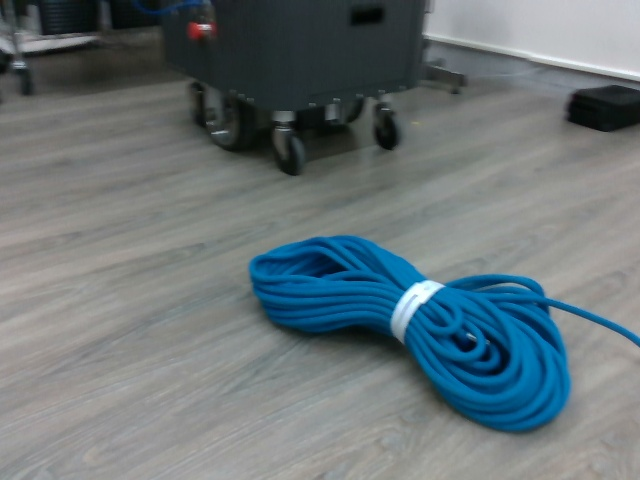rope: (245, 227, 576, 439)
